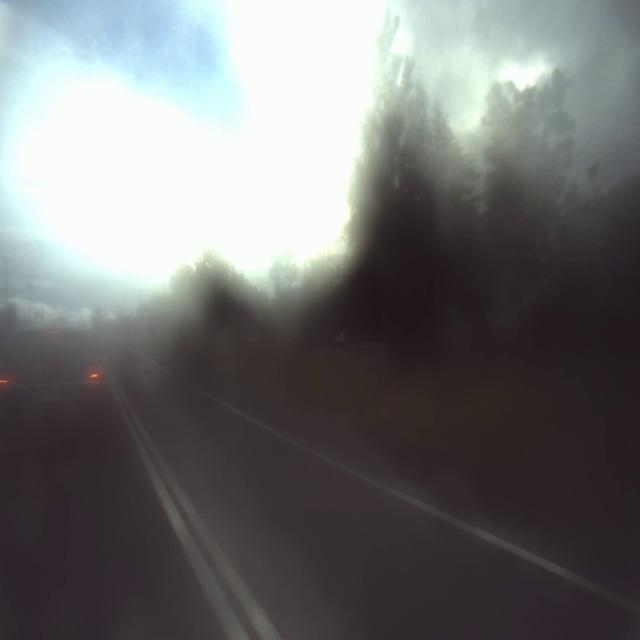car: (6, 321, 107, 453)
